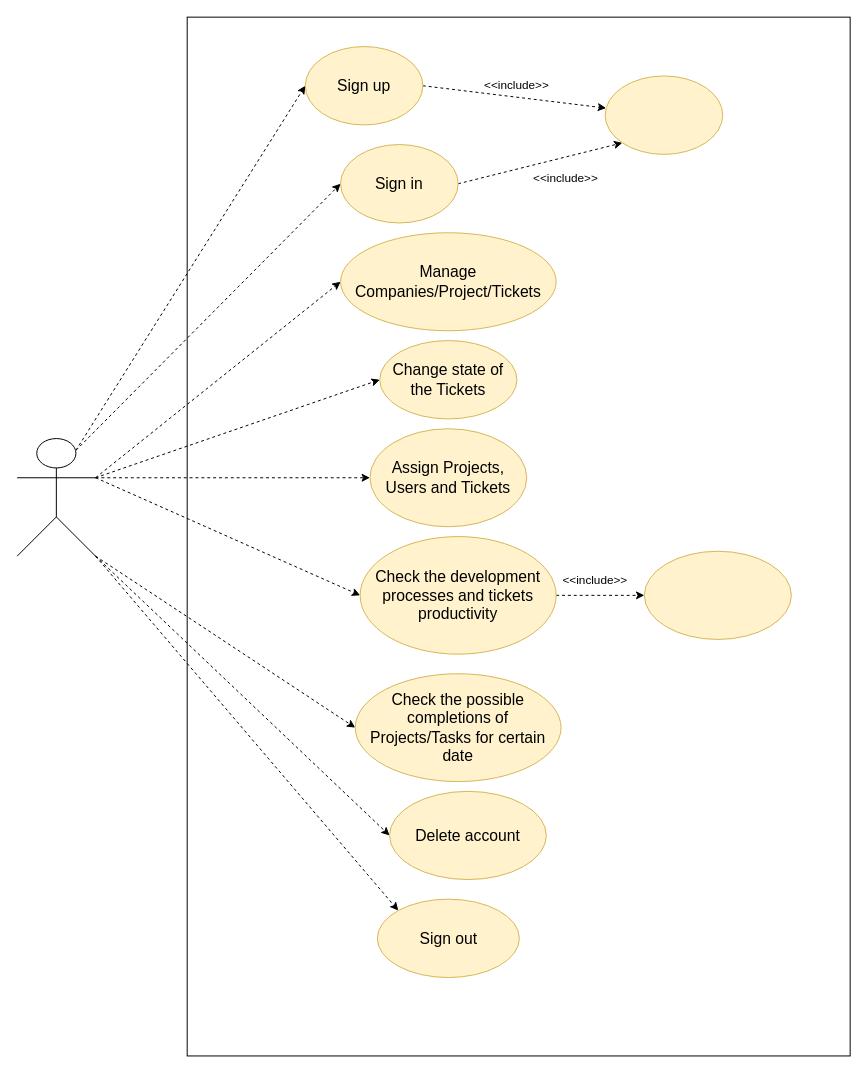
This 867x1073 diagram has some shape labels left out. Each missing label, with the centre of its shape:
"Check Identity" goes at (x=663, y=114).
"Create report of completed Tasks/Projects" goes at (x=717, y=594).
"User" goes at (x=56, y=497).
